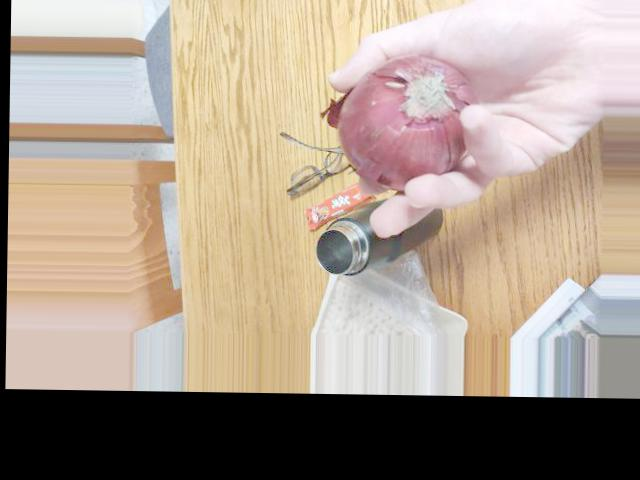onion: (352, 53, 472, 181)
